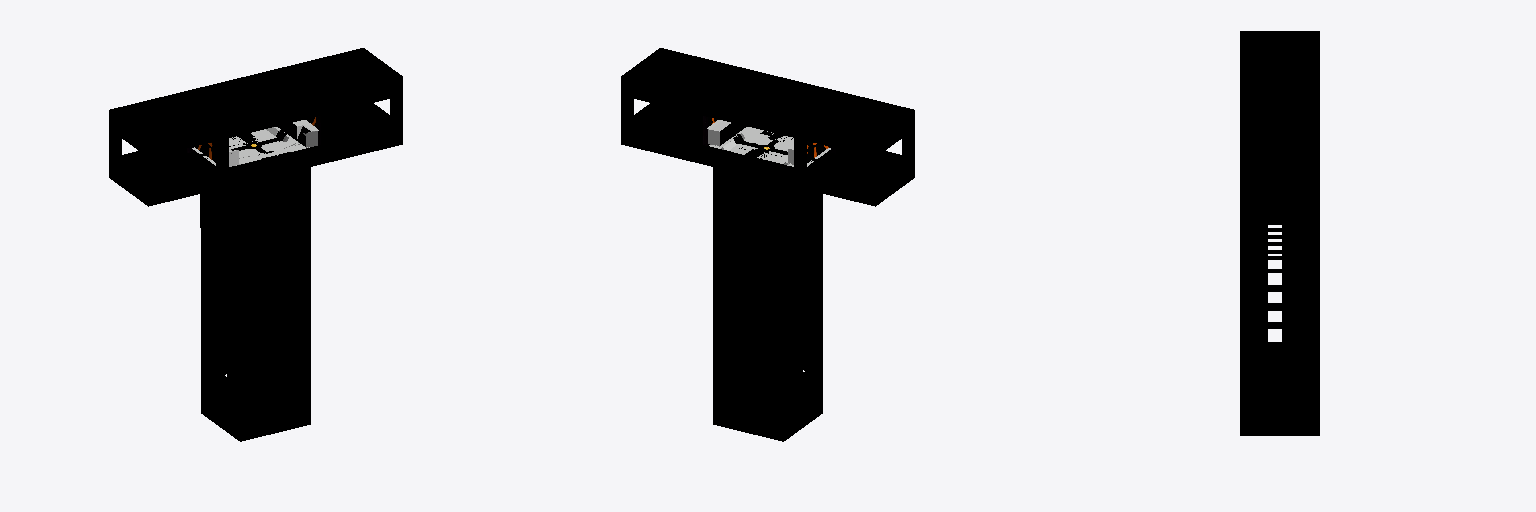
3 views of the same model, side by side, from view 1: azimuth 30°, elevation 25°; view 2: azimuth 150°, elevation 25°; view 3: azimuth 270°, elevation 25° (orthographic).
Parts seen in each view (by area): view 1: pPlane62; view 2: pPlane62; view 3: pPlane62.
Boxes of the visible parts, box(x1,y1,x2,y2) form: pPlane62: box(109, 48, 402, 441); pPlane62: box(621, 48, 914, 441); pPlane62: box(1240, 31, 1319, 435).
Size of the model in its own units: 94.4 by 115 by 25.36.
17 materials, 4 textured.